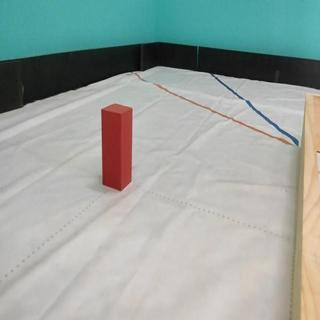redbox: (100, 103, 134, 190)
